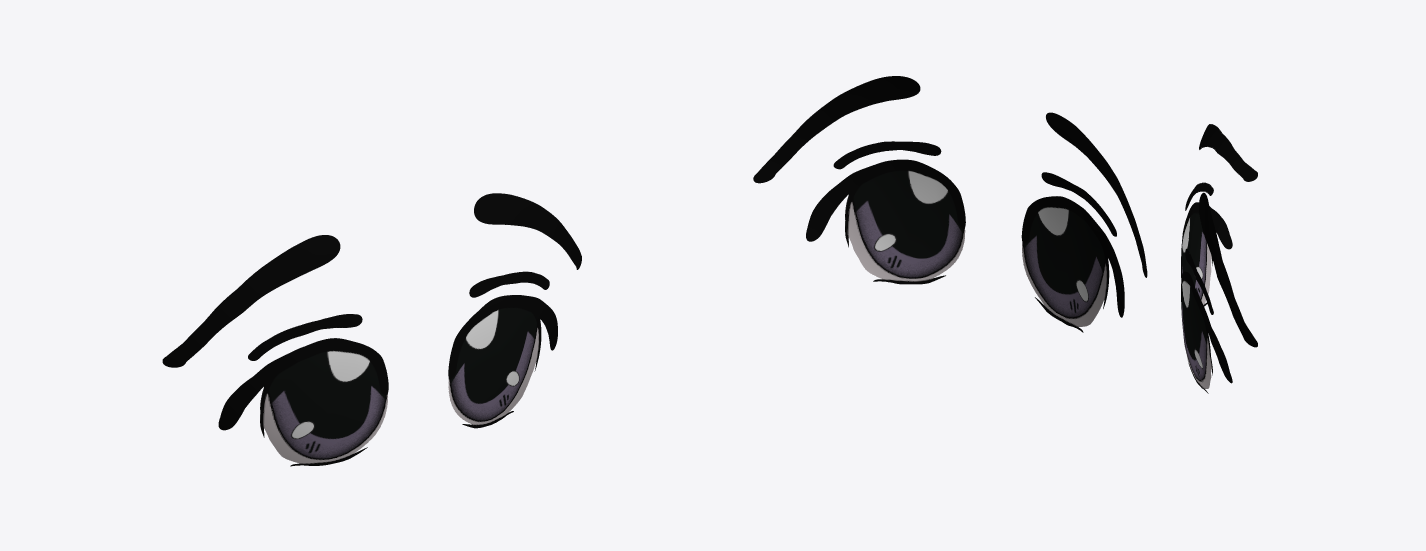
Rendered from Milady_Lilac.glb.
3 renders of one model, left to right at view 1: azimuth 30°, elevation 25°; view 2: azimuth 150°, elevation 25°; view 3: azimuth 270°, elevation 25°, orthographic. The views are drawn at different scales.
Parts seen in each view (by area): view 1: Milady_Lilac; view 2: Milady_Lilac; view 3: Milady_Lilac.
Boxes of the visible parts, x1=… form: Milady_Lilac: x1=162, y1=193, x2=581, y2=466; Milady_Lilac: x1=753, y1=76, x2=1147, y2=332; Milady_Lilac: x1=1181, y1=124, x2=1257, y2=393.
Size of the model in its own units: 0.8936 by 0.6926 by 0.4046.
Materials: 1 (1 with a texture image).
